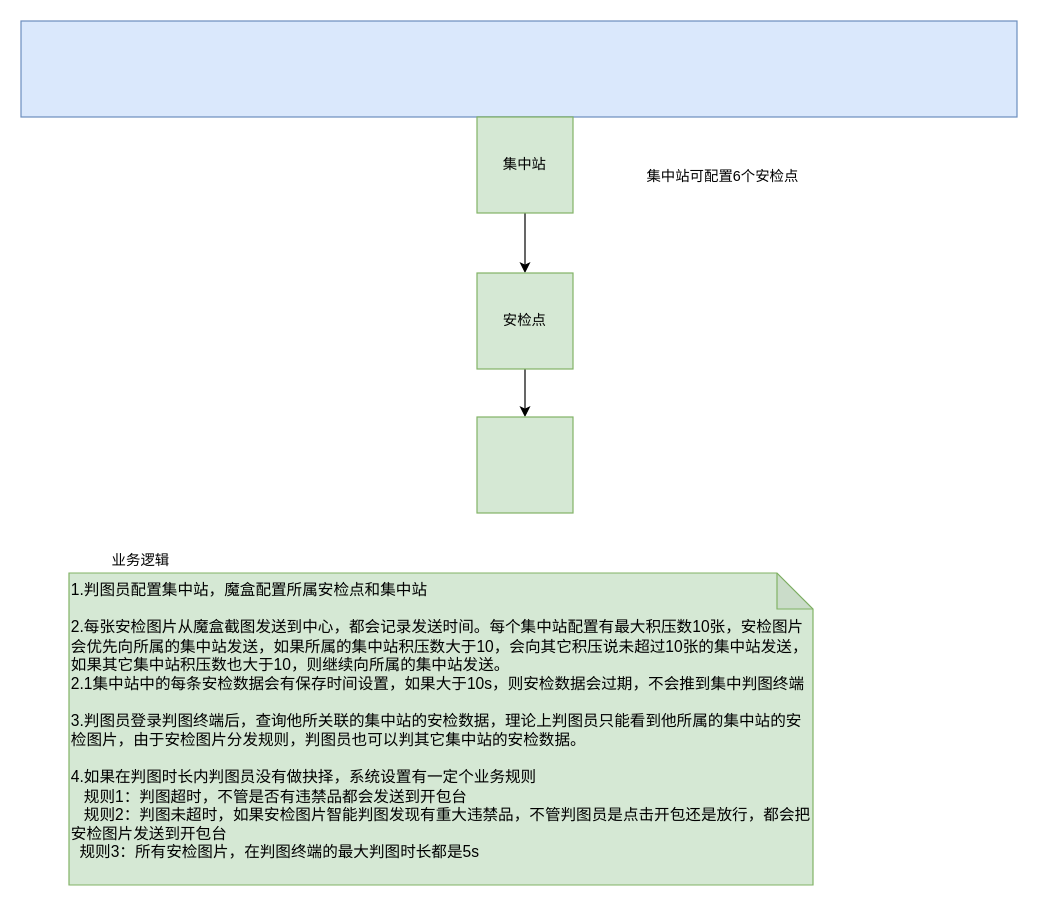
The diagram is 1038 pixels wide and 906 high, and some of its shapes have lost their labels. The box of each missing label's shape, as (x1, y1, x2, y2) in pixels:
集中判图: (20, 20, 1017, 117)
魔盒设备: (476, 416, 573, 513)
